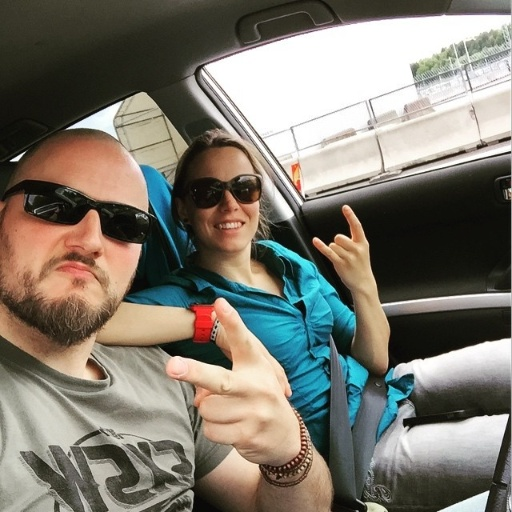hand: (208, 311, 295, 399), (312, 204, 372, 294)
